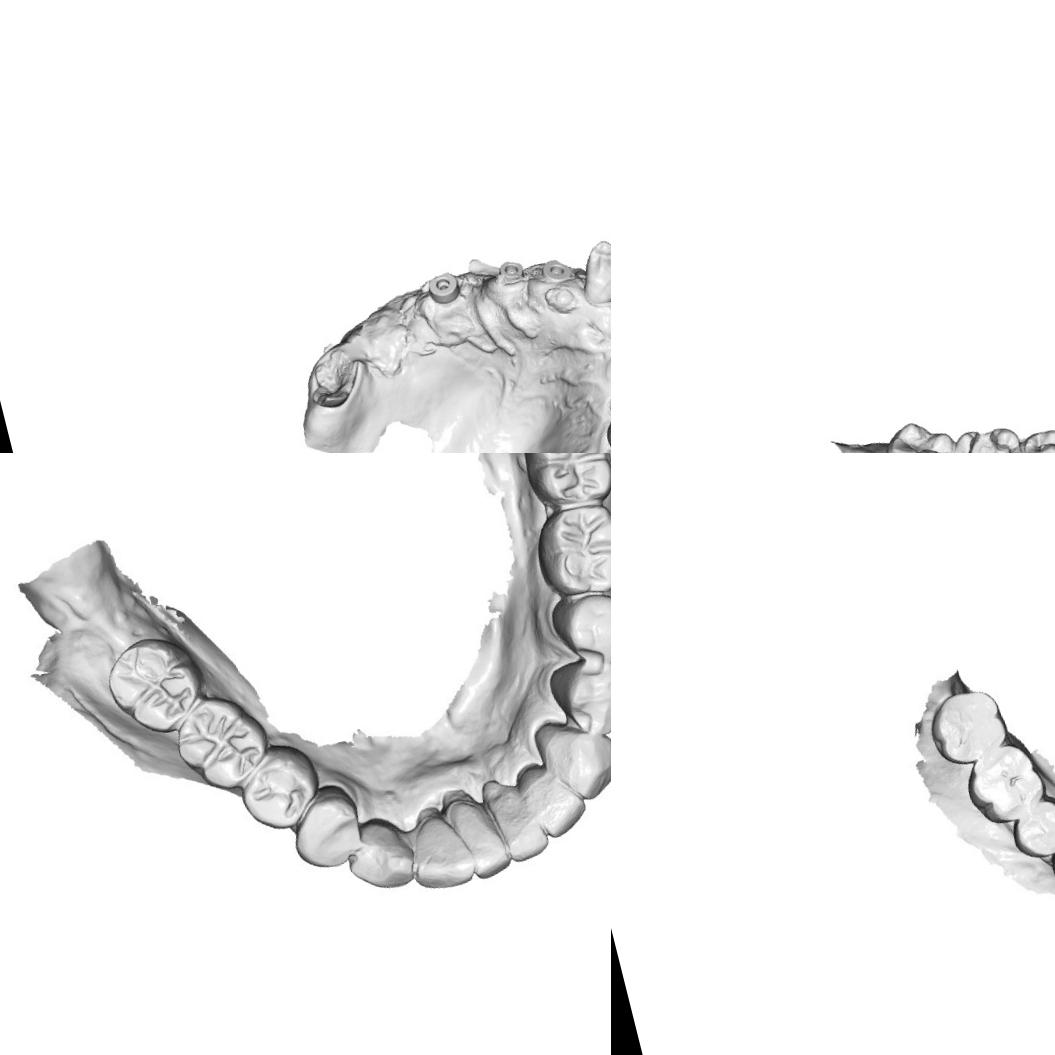canine: (338, 802, 422, 898), (530, 708, 611, 803)
implant: (422, 266, 464, 307), (537, 254, 574, 291), (494, 254, 528, 288)
incisor: (402, 797, 482, 898), (436, 779, 511, 883), (516, 752, 598, 844), (480, 768, 554, 866), (570, 230, 611, 311)
inlay: (952, 419, 1019, 453)
molar: (168, 686, 274, 798), (98, 628, 206, 734), (525, 488, 611, 604), (958, 741, 1054, 831), (922, 682, 1014, 771), (513, 453, 611, 514), (873, 411, 967, 453)
premolar: (229, 740, 324, 836), (282, 776, 375, 873), (543, 648, 611, 741), (546, 580, 611, 673), (1006, 793, 1055, 865), (1018, 422, 1055, 453)
